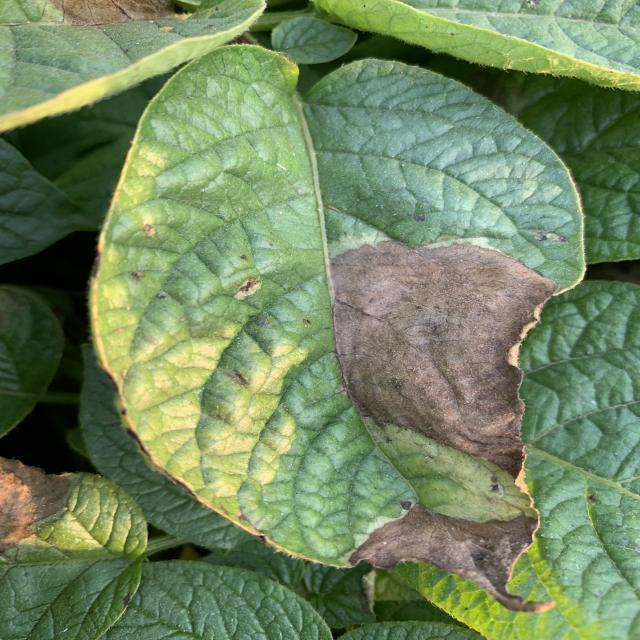lateblight: (330, 240, 558, 478), (350, 505, 553, 612)
